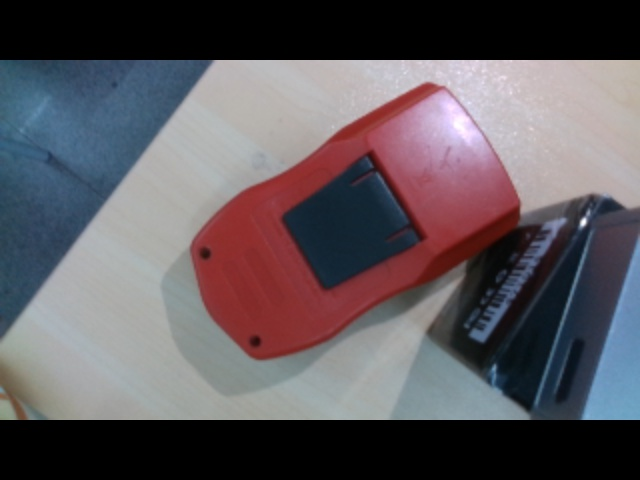Multimeter: (188, 82, 521, 363)
Screw holes: (198, 247, 214, 260), (250, 335, 263, 347)
